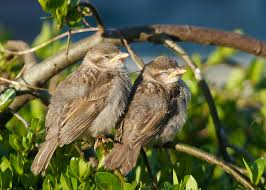hsparrow: (27, 39, 130, 172), (106, 52, 200, 171)
